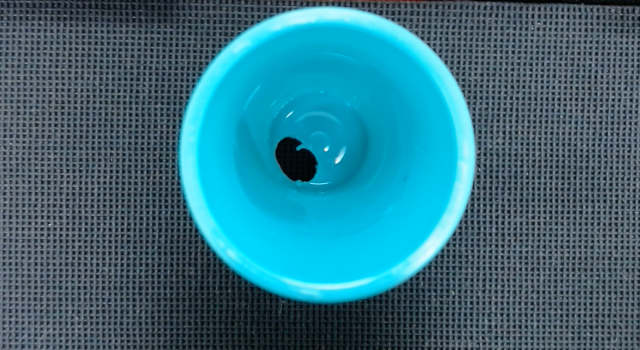hole: (274, 137, 317, 181)
